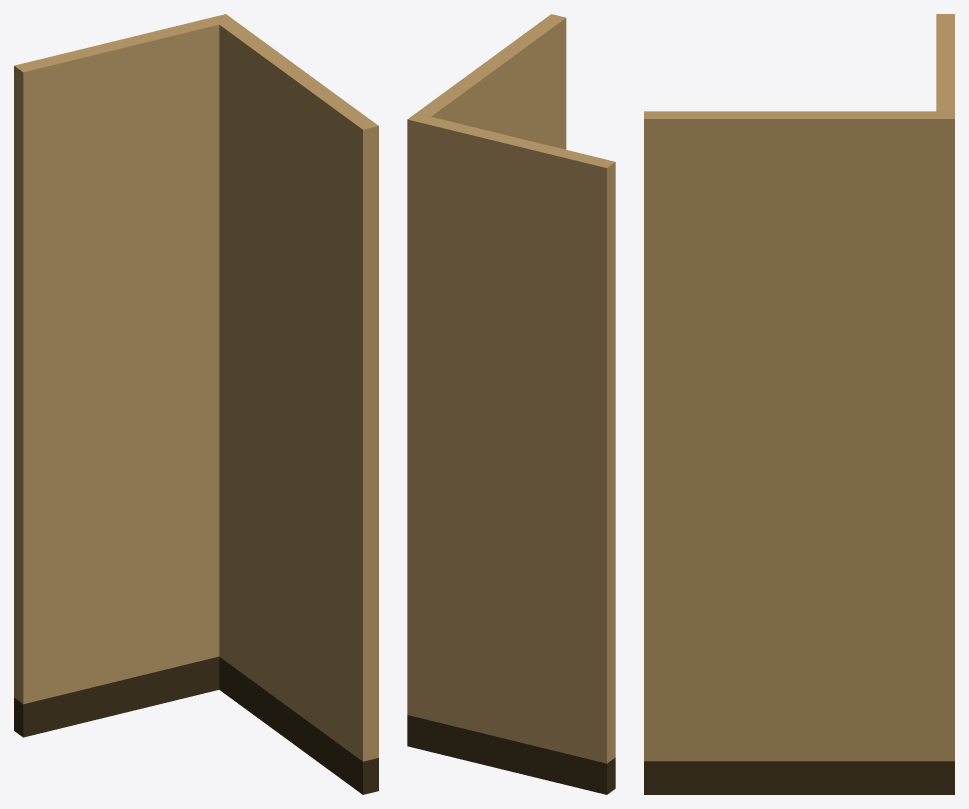
File: SchoolPack-49-corner wall.obj
The picture shows the model from 3 angles, left to right: view 1: azimuth 30°, elevation 25°; view 2: azimuth 150°, elevation 25°; view 3: azimuth 270°, elevation 25°; orthographic projection. The views are drawn at different scales.
Visible parts, largest first — view 1: corner wall; view 2: corner wall; view 3: corner wall.
Part boxes in pixels (x1,y1,x2,y2): corner wall: (14, 14, 378, 794); corner wall: (407, 14, 615, 794); corner wall: (644, 14, 954, 794).
Bounding box in the file's own units: 4 × 12 × 5.
1 material, 1 textured.
